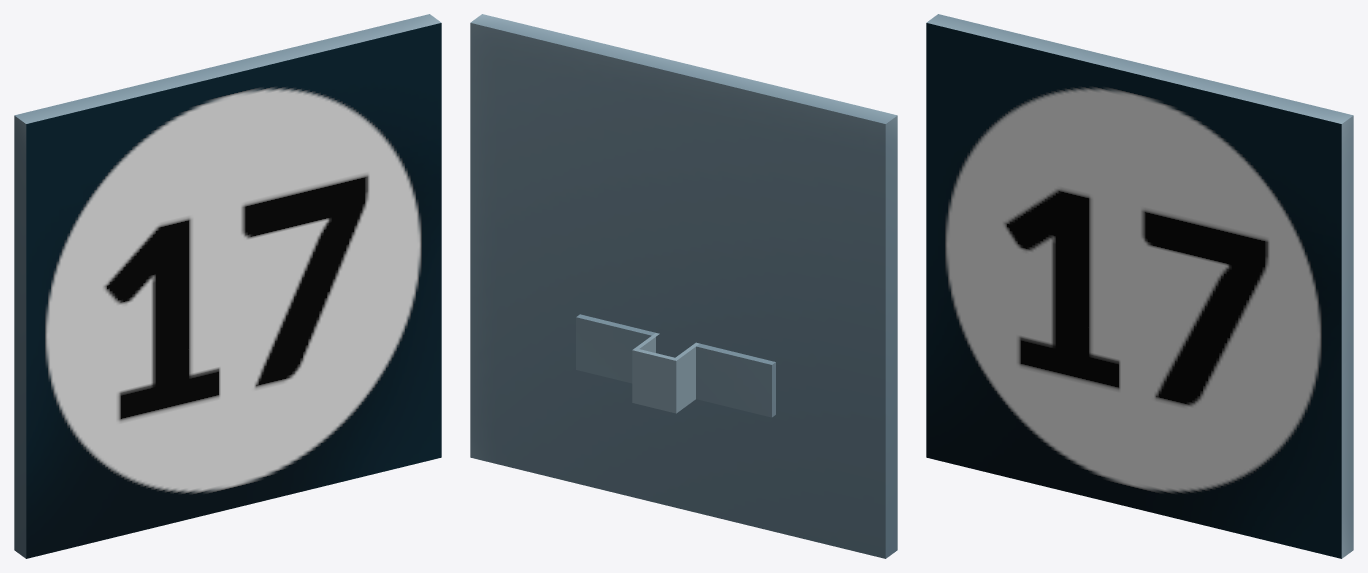
File: Sign75.fbx
3 views of the same model, side by side, from view 1: azimuth 30°, elevation 25°; view 2: azimuth 150°, elevation 25°; view 3: azimuth 330°, elevation 25° (orthographic).
Visible parts, largest first — view 1: Sign75; view 2: Sign75; view 3: Sign75.
Boxes of the visible parts, <box> form: Sign75: <box>14,14,441,558</box>; Sign75: <box>470,14,897,558</box>; Sign75: <box>926,14,1353,558</box>.
Size of the model in its own units: 1 by 0.1489 by 1.
